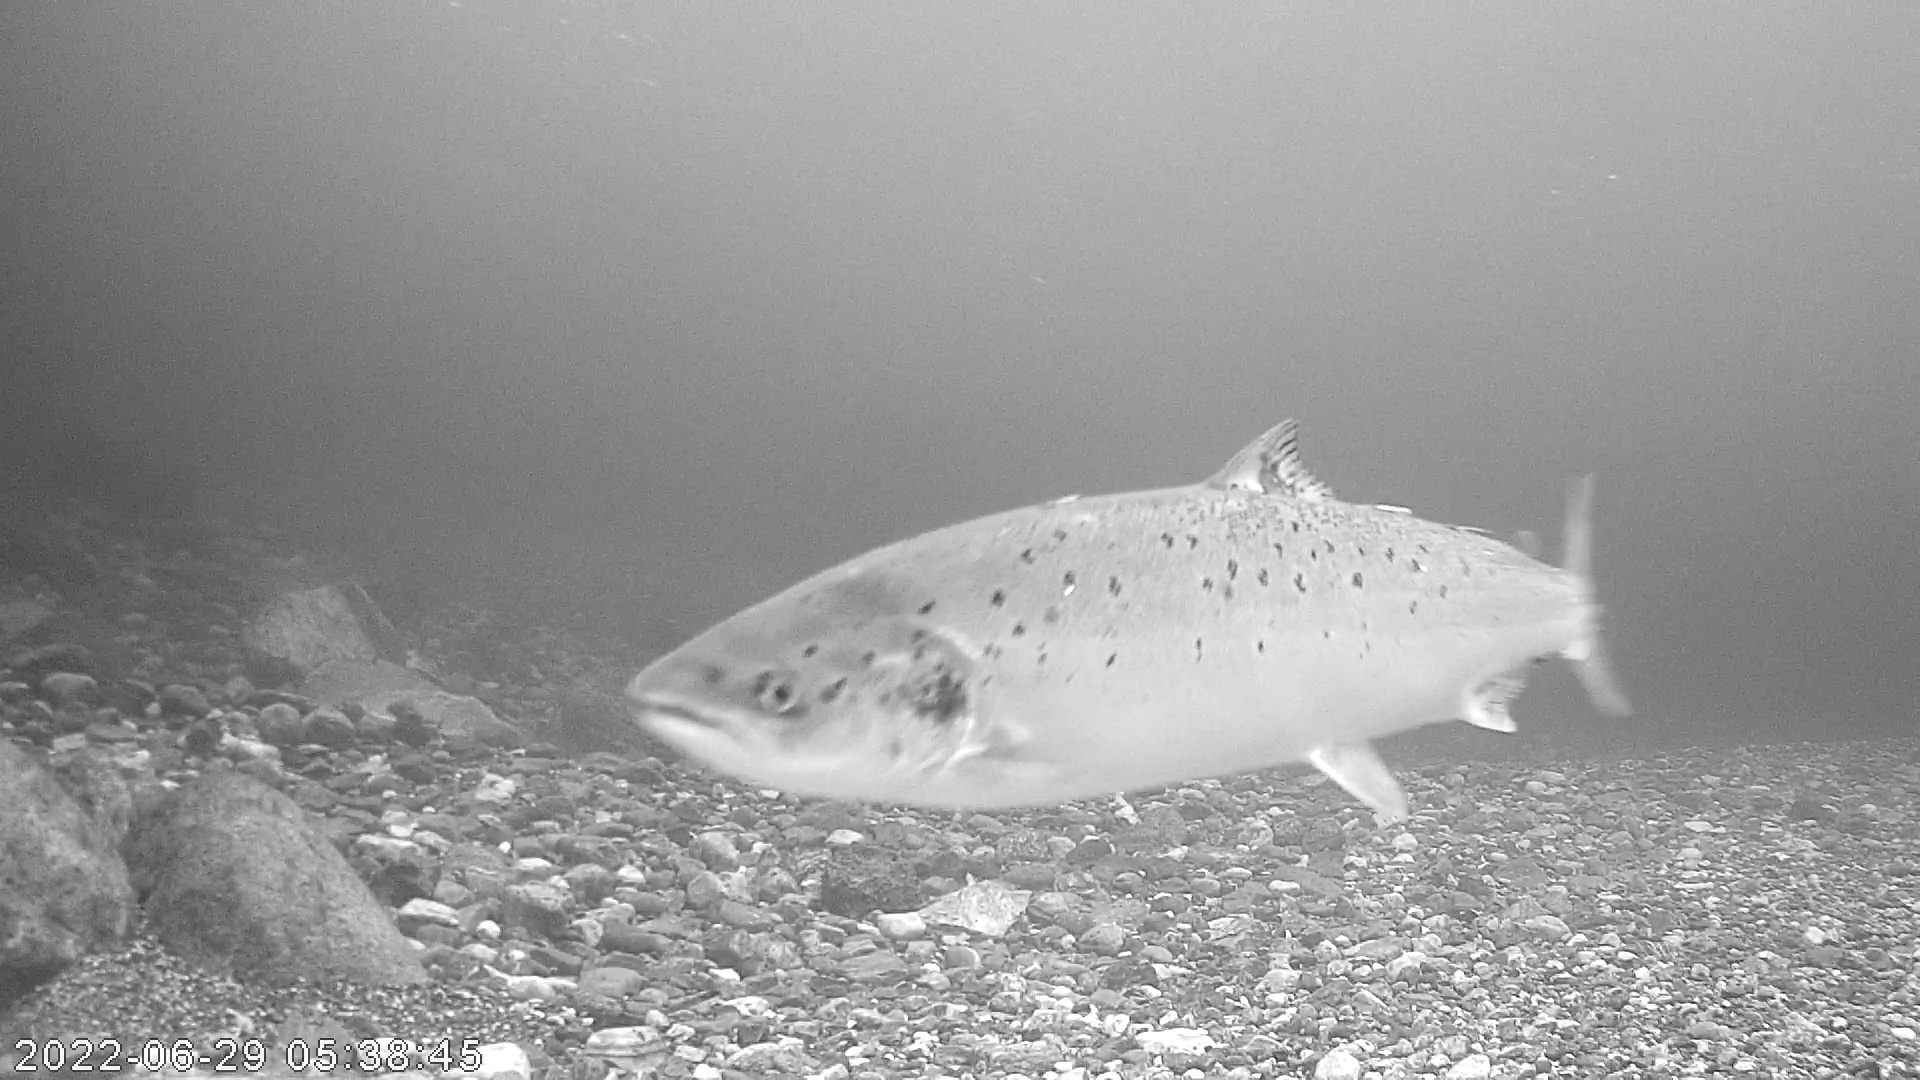salmon: (696, 356, 1617, 800)
